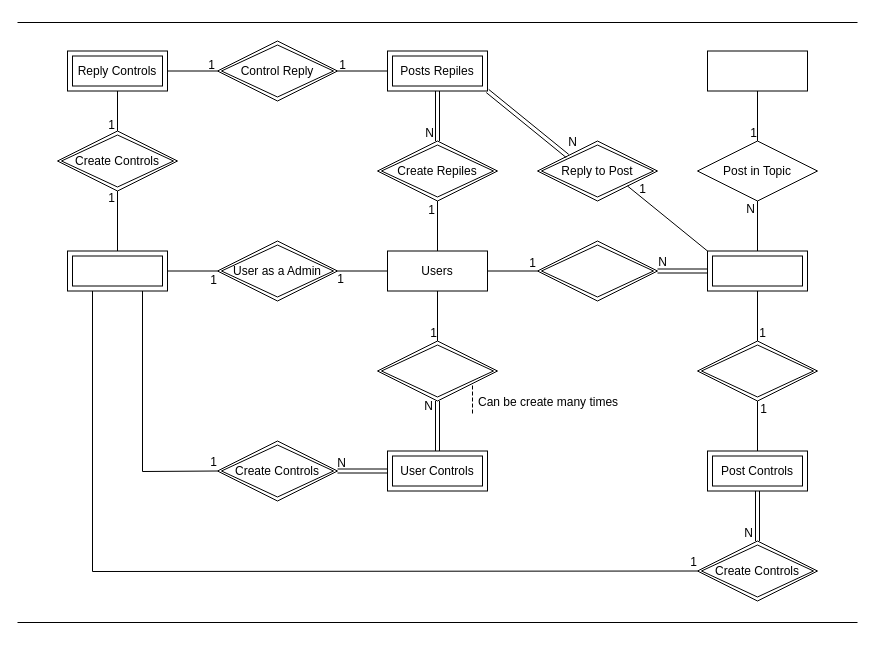
This 875x645 diagram has some shape labels left out. The box of each missing label's shape, as (x1, y1, x2, y2) in pixels:
Admin: (66, 250, 168, 291)
Control Post: (696, 340, 818, 401)
Control User: (376, 340, 498, 401)
Create Posts: (536, 240, 658, 301)
Post Topics: (706, 50, 808, 91)
Posts: (706, 250, 808, 291)
